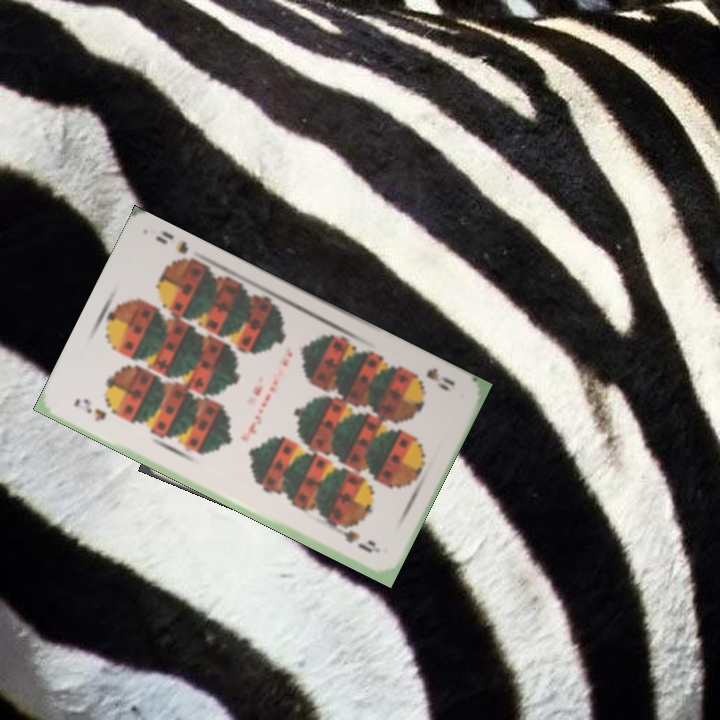S9: (404, 364, 458, 394), (70, 394, 110, 424)
